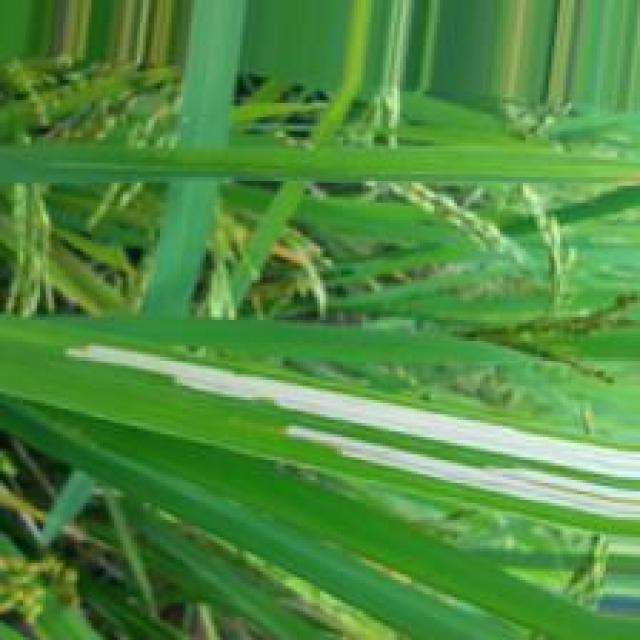Rice_Hispa: (70, 343, 640, 480), (274, 429, 640, 525)
